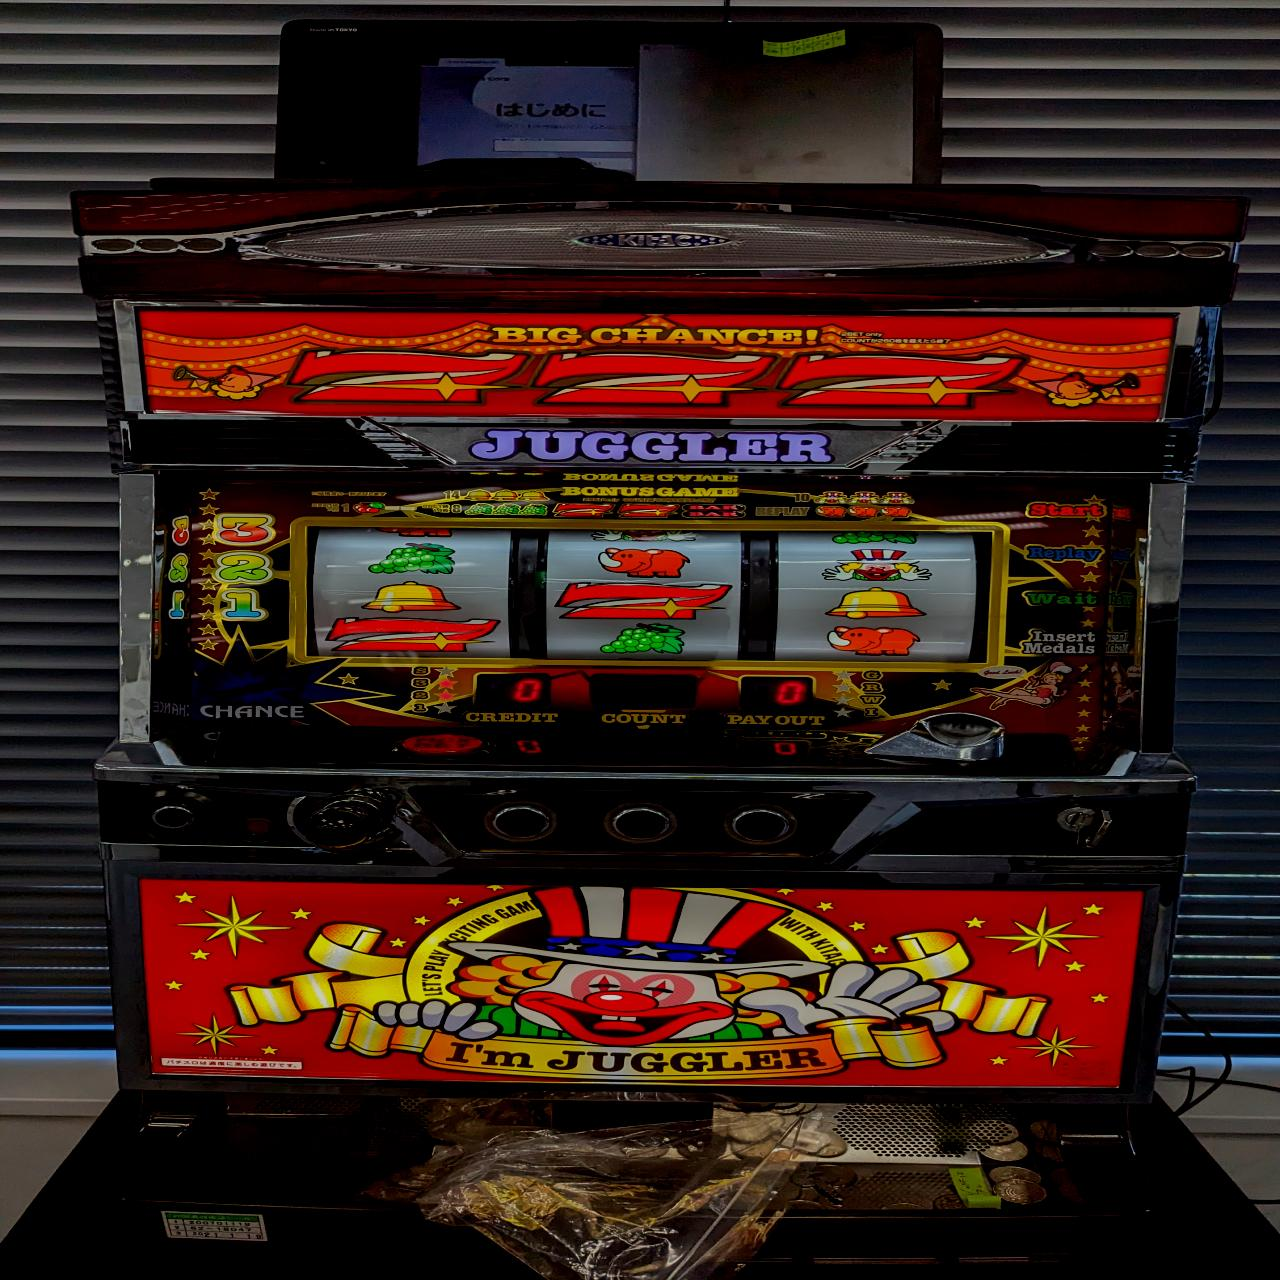7: (554, 579, 735, 620), (325, 615, 502, 654)
Display: (305, 520, 994, 663)
bell: (825, 587, 930, 621), (362, 580, 464, 614)
clown: (821, 546, 933, 584)
grape: (358, 542, 461, 578), (598, 621, 689, 656)
rhino: (823, 624, 926, 659), (592, 545, 696, 579)
